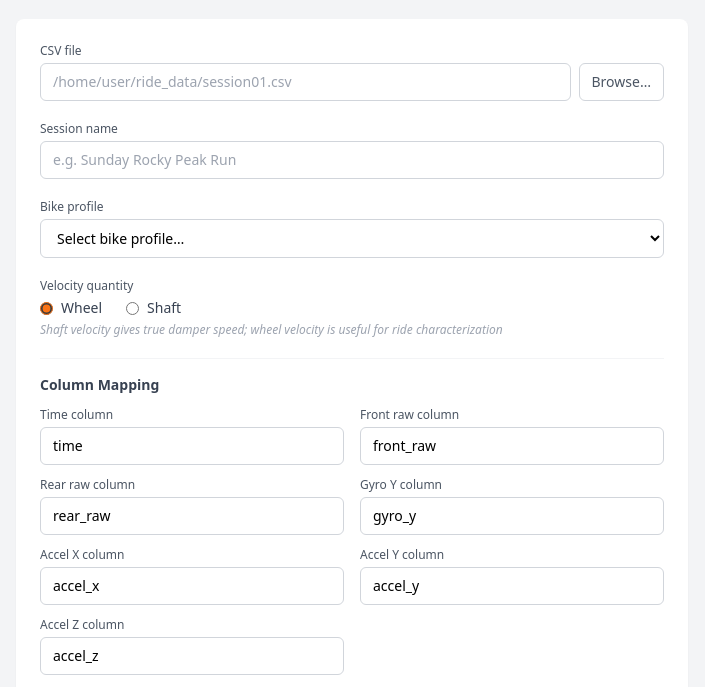
Test: ImportPage › shows a success banner with an "Analyze Now" button after a successful path import
In the field with placeholder "/home/user/ride_data/session01.csv": coordinates (305, 82) [40,63,570,101], type "/data/good.csv"
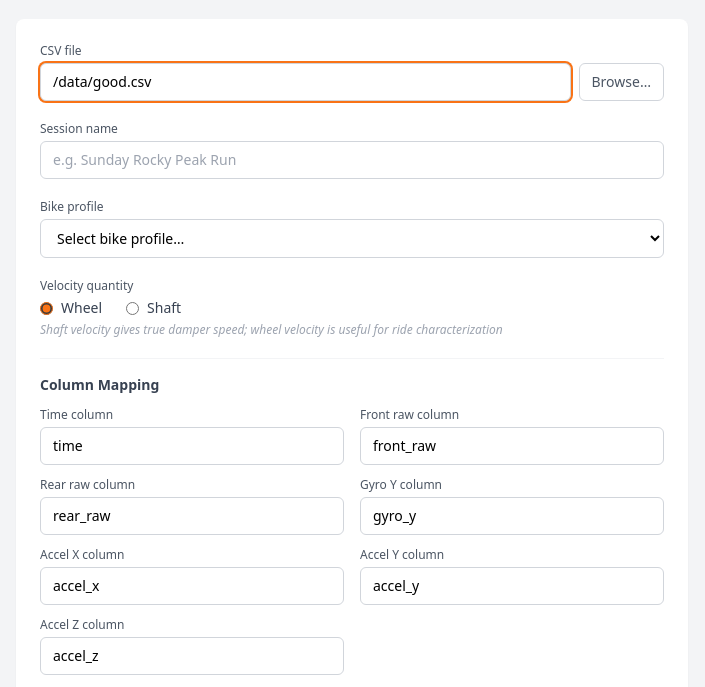
In the field with placeholder "e.g. Sunday Rocky Peak Run": coordinates (352, 160) [40,141,664,179], type "Good Session"
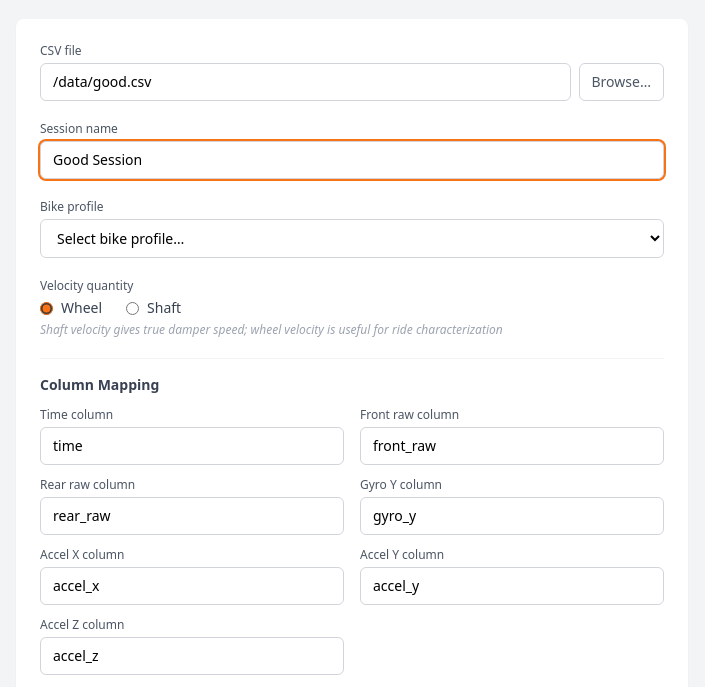
Select "Yamaha Ténéré 700 (Test Profile)" in the dropdown: coordinates (352, 238) [40,219,664,258]
(page scrolled)
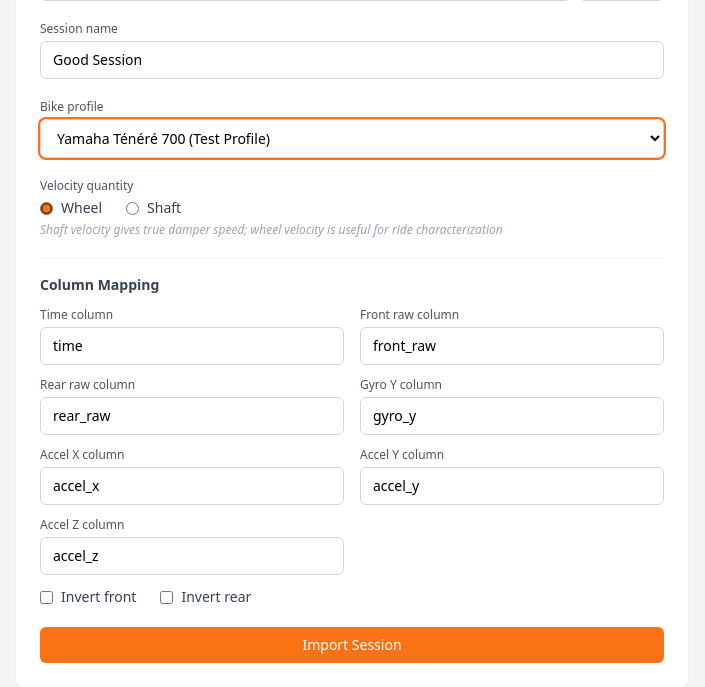
Click the button "Import Session": coordinates (352, 645) [40,627,664,663]
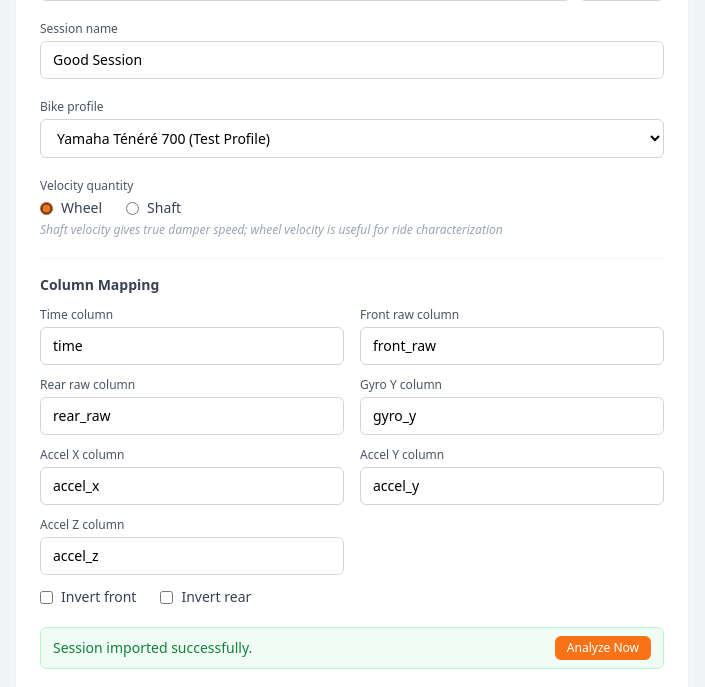
Expected: the text "Session imported successfully." is shown, [53,638,252,658]
Expected: the button "Analyze Now" is shown, [555,636,651,660]
